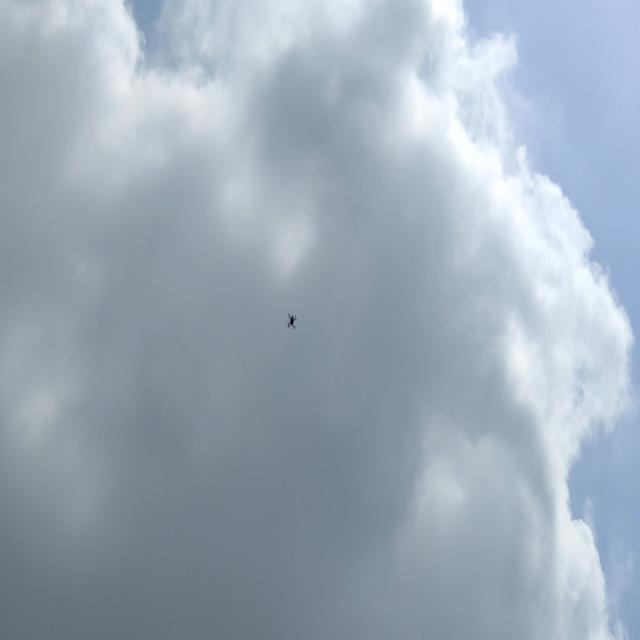drone: (283, 312, 300, 334)
